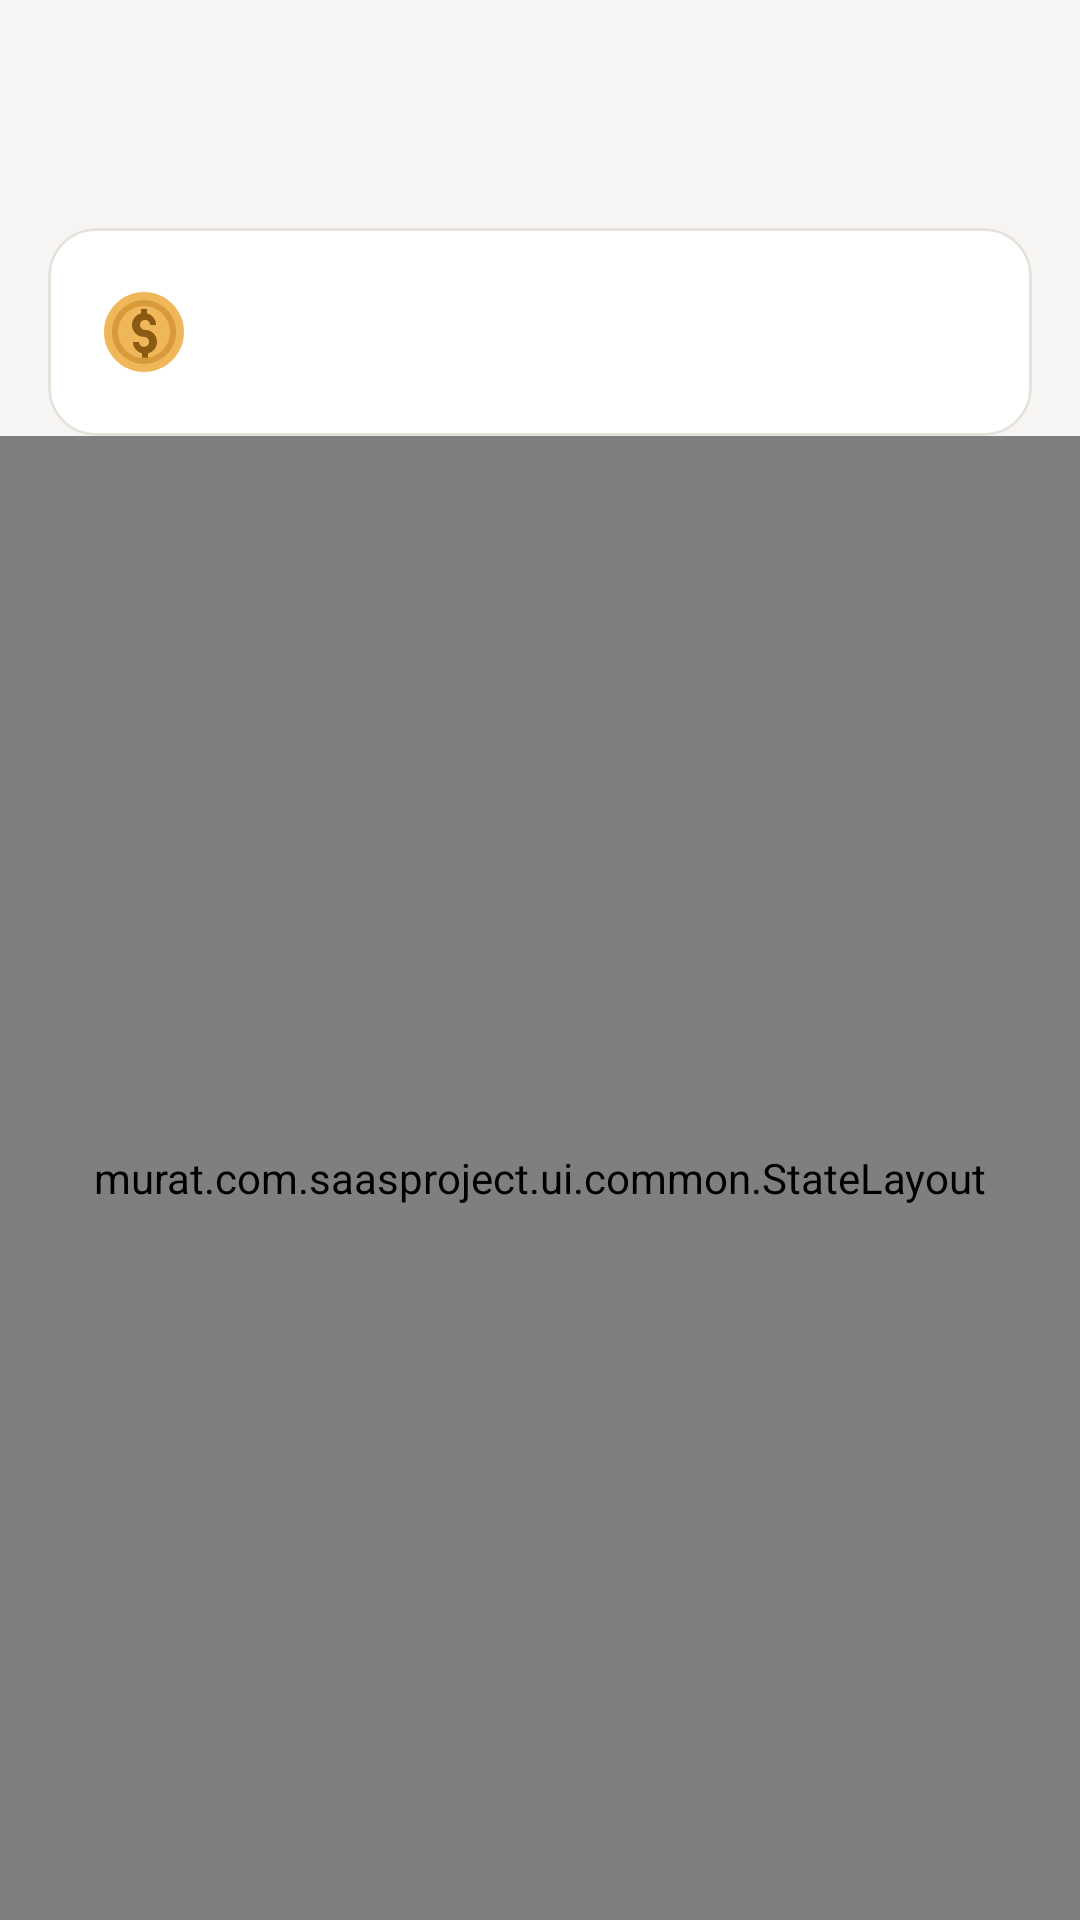

Screen size 1080px x 1920px. Icon name, then its box in pixels as region(x1, y1, x2, y2):
Puan simgesi: region(104, 292, 184, 372)
